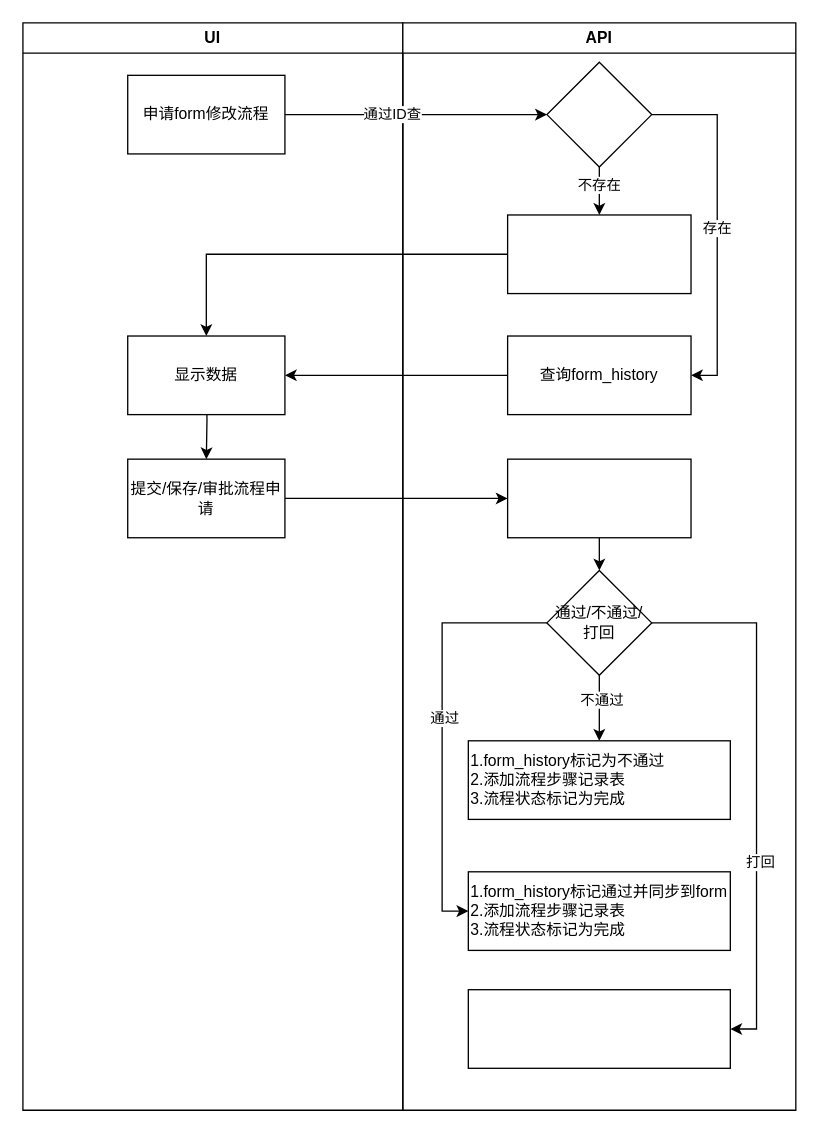
This 819x1133 diagram has some shape labels left out. The shapes that lost their labels are listed below. From the top down, each one's box as (x1, y1, x2, y2) in pixels, then its label:
(546, 61, 652, 167): 未完结form 流程
(506, 214, 691, 294): 查询form
(506, 458, 691, 538): 创建/更新form_history (创建/审批流程)
(467, 988, 730, 1068): 1.添加流程步骤记录表
